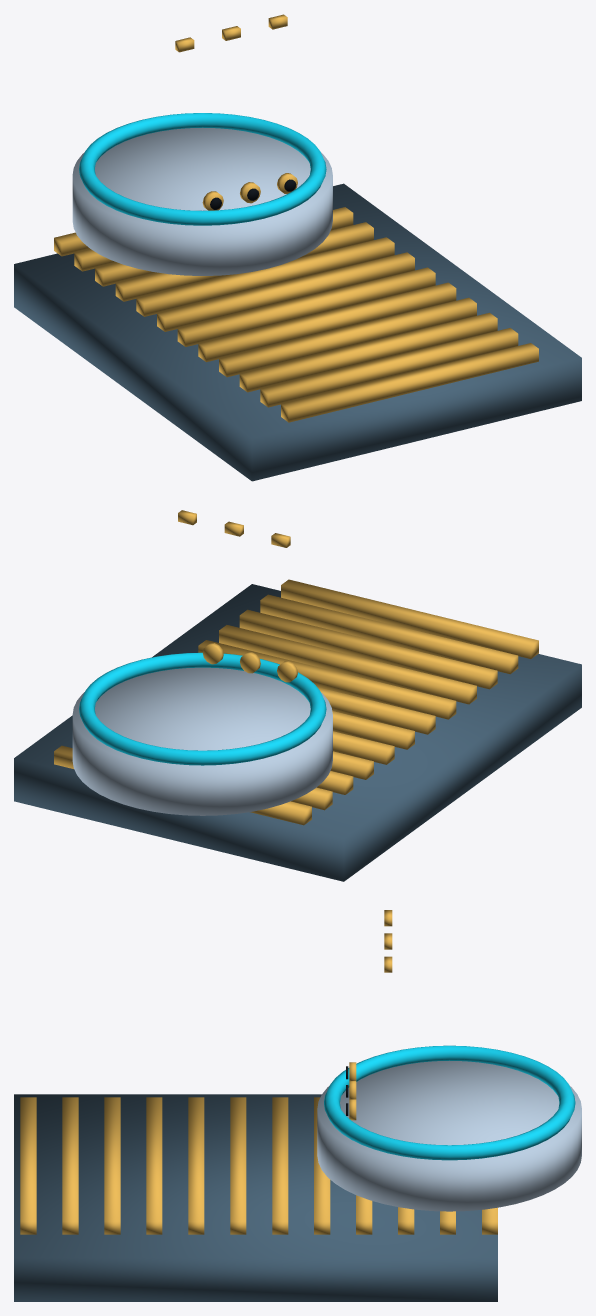
File: 26_L93_CTSampleCarrier.fbx
3 renders of one model, top to bottom at view 1: azimuth 30°, elevation 25°; view 2: azimuth 150°, elevation 25°; view 3: azimuth 270°, elevation 25°, orthographic.
Parts seen in each view (by area): view 1: L92_CTSampleCarrier_Part_0001, L92_CTSampleCarrier_Part_0000, L92_CTSampleCarrier_Part_0002, L92_CTSampleCarrier_Part_0003, L92_CTSampleCarrier_Part_0004; view 2: L92_CTSampleCarrier_Part_0000, L92_CTSampleCarrier_Part_0001, L92_CTSampleCarrier_Part_0002, L92_CTSampleCarrier_Part_0003, L92_CTSampleCarrier_Part_0004; view 3: L92_CTSampleCarrier_Part_0000, L92_CTSampleCarrier_Part_0002, L92_CTSampleCarrier_Part_0001, L92_CTSampleCarrier_Part_0003.
Boxes of the visible parts, x1,y1,x2,y2 form: L92_CTSampleCarrier_Part_0001: (54, 207, 538, 422); L92_CTSampleCarrier_Part_0000: (14, 183, 581, 481); L92_CTSampleCarrier_Part_0002: (72, 127, 332, 275); L92_CTSampleCarrier_Part_0003: (79, 113, 326, 225); L92_CTSampleCarrier_Part_0004: (175, 14, 287, 52); L92_CTSampleCarrier_Part_0000: (14, 584, 581, 881); L92_CTSampleCarrier_Part_0001: (54, 579, 538, 825); L92_CTSampleCarrier_Part_0002: (72, 667, 332, 815); L92_CTSampleCarrier_Part_0003: (79, 652, 326, 765); L92_CTSampleCarrier_Part_0004: (178, 510, 290, 547); L92_CTSampleCarrier_Part_0000: (14, 1094, 497, 1301); L92_CTSampleCarrier_Part_0002: (317, 1060, 581, 1211); L92_CTSampleCarrier_Part_0001: (20, 1097, 497, 1234); L92_CTSampleCarrier_Part_0003: (324, 1045, 575, 1160).
Size of the model in its own units: 240 by 193 by 352.
